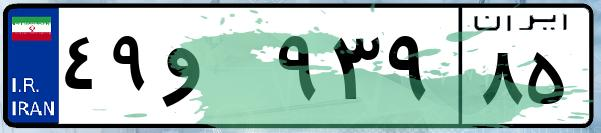3: (330, 28, 385, 110)
4: (57, 26, 110, 100)
5: (525, 38, 570, 115)
8: (475, 38, 525, 113)
9: (270, 28, 330, 110), (385, 28, 445, 110), (110, 28, 158, 98)
و: (158, 20, 270, 120)
